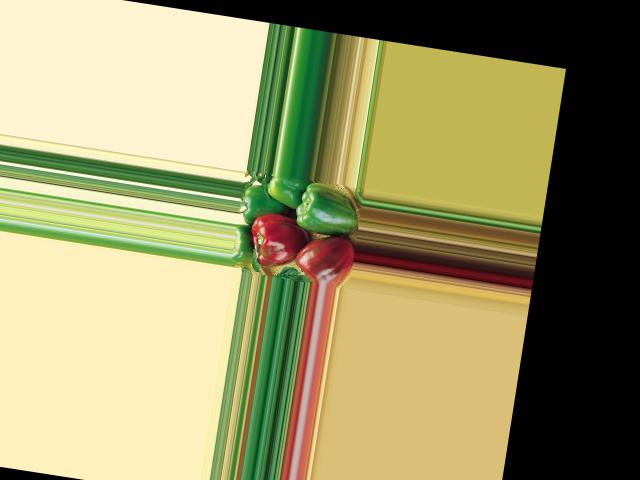bell_pepper: (293, 233, 356, 287)
